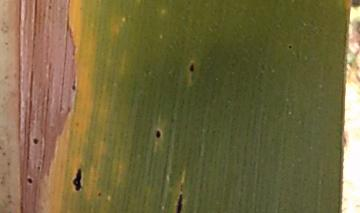tarspot: (72, 166, 83, 193), (175, 192, 184, 212), (188, 59, 196, 75), (155, 127, 162, 143), (32, 137, 39, 146), (27, 176, 34, 185), (96, 190, 103, 197), (71, 84, 77, 91), (288, 44, 294, 50)
